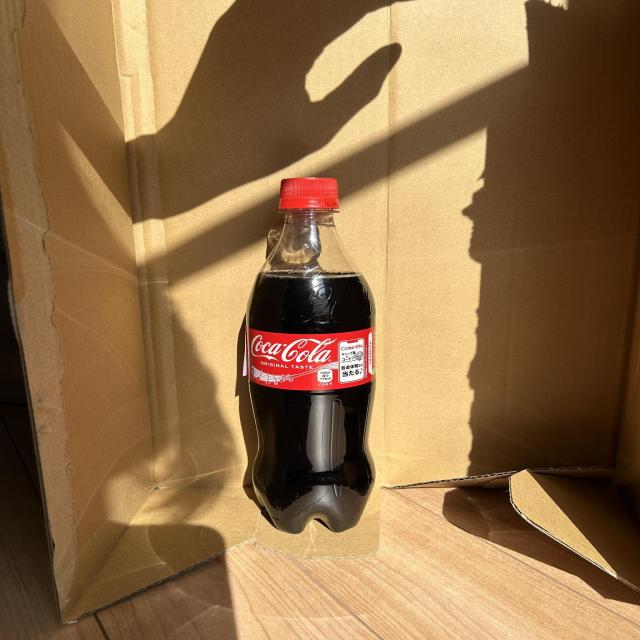high: (246, 179, 376, 533)
